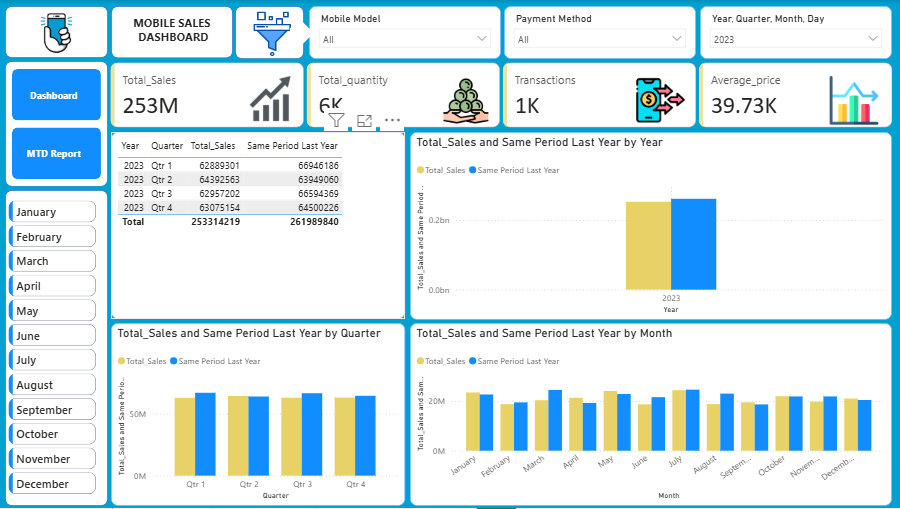

This screenshot's page, from the dashboard's own definition file:
{"tool":"powerbi","page":{"name":"Same Period Last Year","canvas":[1280,720],"ordinal":2},"visuals":[{"type":"shape","box":[9.9,8.5,146,73.7],"z":0},{"type":"image","box":[18.4,14.2,129,65.2],"z":1000},{"type":"shape","box":[9.9,86.5,146,178],"z":2000},{"type":"cardVisual","fields":{"Data":["Mobile_Sales_Data.Total_Sales","Mobile_Sales_Data.Total_quantity","Mobile_Sales_Data.Transactions","Mobile_Sales_Data.Average_price"]},"box":[147.4,76.5,1132.4,116.2],"z":3000},{"type":"image","box":[340.2,107.7,90.7,63.8],"z":4000},{"type":"image","box":[622.2,109.1,82.2,68],"z":5000},{"type":"image","box":[898.6,107.7,80.8,69.4],"z":6000},{"type":"image","box":[1170.7,107.7,85,69.4],"z":7000},{"type":"slicer","fields":{"Values":["Mobile_Sales_Data.Mobile Model"]},"box":[440.8,8.5,272.1,75.1],"z":8000},{"type":"slicer","fields":{"Values":["Mobile_Sales_Data.Payment Method"]},"box":[717.2,8.5,272.1,75.1],"z":9000},{"type":"slicer","fields":{"Values":["Custom_Calendar.Date.Variation.Date Hierarchy.Year","Custom_Calendar.Date.Variation.Date Hierarchy.Quarter","Custom_Calendar.Date.Variation.Date Hierarchy.Month","Custom_Calendar.Date.Variation.Date Hierarchy.Day"]},"box":[995,8.5,272.1,75.1],"z":10000},{"type":"shape","box":[335.9,8.5,97.8,75.1],"z":11000},{"type":"image","box":[340.2,15.6,97.8,65.2],"z":12000},{"type":"shape","box":[413.9,31.2,34,31.2],"z":13000},{"type":"shape","box":[160.2,8.5,172.9,74],"z":14000},{"type":"textbox","box":[178.6,15.6,140.3,60.9],"z":15000},{"type":"shape","box":[9.9,269.3,146,447.9],"z":16000},{"type":"advancedSlicerVisual","fields":{"Values":["Custom_Calendar.Date.Variation.Date Hierarchy.Month"]},"box":[9.9,279.2,134.6,429.4],"z":17000},{"type":"tableEx","fields":{"Values":["Custom_Calendar.Date.Variation.Date Hierarchy.Year","Custom_Calendar.Date.Variation.Date Hierarchy.Quarter","Mobile_Sales_Data.Total_Sales","Mobile_Sales_Data.Same Period Last Year"]},"box":[160.2,187.1,416.7,265],"z":18000},{"type":"clusteredColumnChart","fields":{"Category":["Custom_Calendar.Date.Variation.Date Hierarchy.Year","Custom_Calendar.Date.Variation.Date Hierarchy.Quarter"],"Y":["Mobile_Sales_Data.Total_Sales","Mobile_Sales_Data.Same Period Last Year"]},"box":[583.9,187.1,683.1,266.5],"z":19000},{"type":"clusteredColumnChart","fields":{"Y":["Mobile_Sales_Data.Total_Sales","Mobile_Sales_Data.Same Period Last Year"],"Category":["Custom_Calendar.Date.Variation.Date Hierarchy.Year","Custom_Calendar.Date.Variation.Date Hierarchy.Quarter","Custom_Calendar.Date.Variation.Date Hierarchy.Month","Custom_Calendar.Date.Variation.Date Hierarchy.Day"]},"box":[583.9,457.8,683,259],"z":20000},{"type":"clusteredColumnChart","fields":{"Category":["Custom_Calendar.Date.Variation.Date Hierarchy.Year","Custom_Calendar.Date.Variation.Date Hierarchy.Quarter"],"Y":["Mobile_Sales_Data.Total_Sales","Mobile_Sales_Data.Same Period Last Year"]},"box":[160.2,457.8,416.7,259.4],"z":21000},{"type":"pageNavigator","box":[19.8,97.8,126.1,157.3],"z":22000}]}

Visuals, with their boxes in screenshot pixels (x1, y1, x2, y2), scaled from the page's 1280x720 canvas onto the 900x509 screenshot:
shape: {"left": 7, "top": 6, "right": 110, "bottom": 58}
image: {"left": 13, "top": 10, "right": 104, "bottom": 56}
shape: {"left": 7, "top": 61, "right": 110, "bottom": 187}
cardVisual - Mobile_Sales_Data.Total_Sales x Mobile_Sales_Data.Total_quantity: {"left": 104, "top": 54, "right": 899, "bottom": 136}
image: {"left": 239, "top": 76, "right": 303, "bottom": 121}
image: {"left": 437, "top": 77, "right": 495, "bottom": 125}
image: {"left": 632, "top": 76, "right": 689, "bottom": 125}
image: {"left": 823, "top": 76, "right": 883, "bottom": 125}
slicer - Mobile_Sales_Data.Mobile Model: {"left": 310, "top": 6, "right": 501, "bottom": 59}
slicer - Mobile_Sales_Data.Payment Method: {"left": 504, "top": 6, "right": 696, "bottom": 59}
slicer - Custom_Calendar.Date.Variation.Date Hierarchy.Year x Custom_Calendar.Date.Variation.Date Hierarchy.Quarter: {"left": 700, "top": 6, "right": 891, "bottom": 59}
shape: {"left": 236, "top": 6, "right": 305, "bottom": 59}
image: {"left": 239, "top": 11, "right": 308, "bottom": 57}
shape: {"left": 291, "top": 22, "right": 315, "bottom": 44}
shape: {"left": 113, "top": 6, "right": 234, "bottom": 58}
textbox: {"left": 126, "top": 11, "right": 224, "bottom": 54}
shape: {"left": 7, "top": 190, "right": 110, "bottom": 507}
advancedSlicerVisual - Custom_Calendar.Date.Variation.Date Hierarchy.Month: {"left": 7, "top": 197, "right": 102, "bottom": 501}
tableEx - Custom_Calendar.Date.Variation.Date Hierarchy.Year x Custom_Calendar.Date.Variation.Date Hierarchy.Quarter: {"left": 113, "top": 132, "right": 406, "bottom": 320}
clusteredColumnChart - Custom_Calendar.Date.Variation.Date Hierarchy.Year x Custom_Calendar.Date.Variation.Date Hierarchy.Quarter: {"left": 411, "top": 132, "right": 891, "bottom": 321}
clusteredColumnChart - Mobile_Sales_Data.Total_Sales x Mobile_Sales_Data.Same Period Last Year: {"left": 411, "top": 324, "right": 891, "bottom": 507}
clusteredColumnChart - Custom_Calendar.Date.Variation.Date Hierarchy.Year x Custom_Calendar.Date.Variation.Date Hierarchy.Quarter: {"left": 113, "top": 324, "right": 406, "bottom": 507}
pageNavigator: {"left": 14, "top": 69, "right": 103, "bottom": 180}
